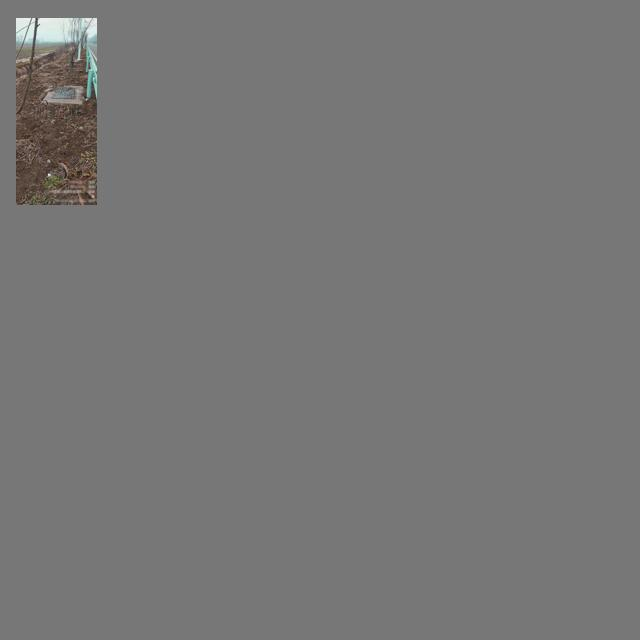good: (51, 84, 79, 99)
